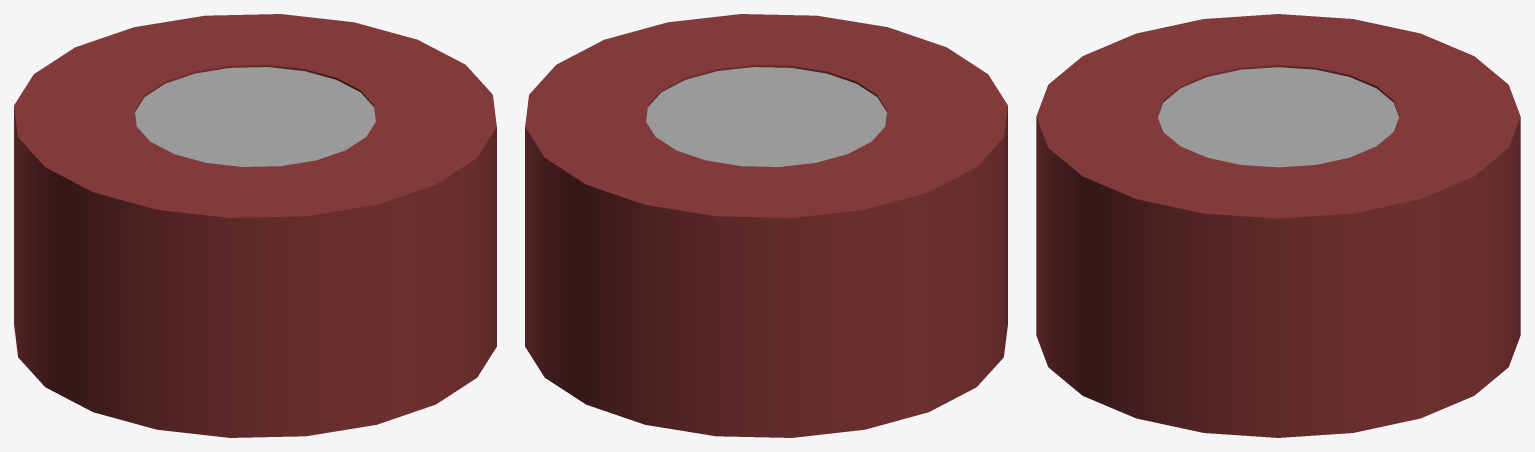
3 views of the same model, side by side, from view 1: azimuth 30°, elevation 25°; view 2: azimuth 150°, elevation 25°; view 3: azimuth 270°, elevation 25° (orthographic).
Visible parts, largest first — view 1: pPipe1, pCylinder1_phys; view 2: pPipe1, pCylinder1_phys; view 3: pPipe1, pCylinder1_phys.
Boxes of the visible parts, <box> form: pPipe1: <box>14,14,496,437</box>; pCylinder1_phys: <box>135,67,375,166</box>; pPipe1: <box>525,14,1007,437</box>; pCylinder1_phys: <box>646,67,886,166</box>; pPipe1: <box>1036,14,1520,437</box>; pCylinder1_phys: <box>1158,67,1398,167</box>.
Size of the model in its own units: 9.43 by 4.72 by 9.43.
